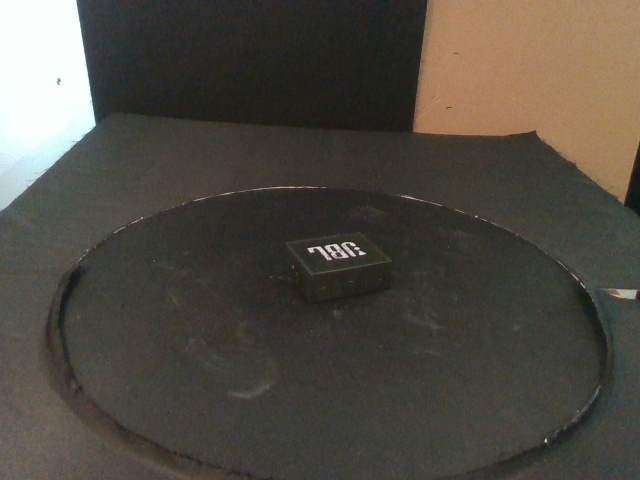speaker: (286, 230, 395, 306)
